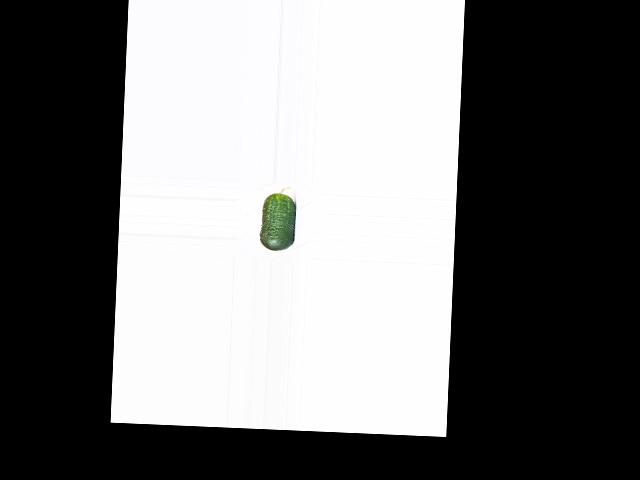cucumber: (260, 186, 296, 251)
